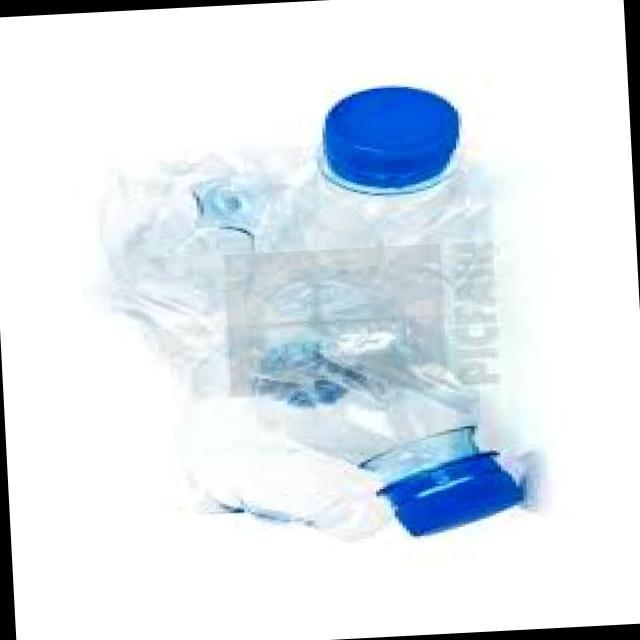defected: (61, 65, 518, 339), (82, 308, 550, 562)
